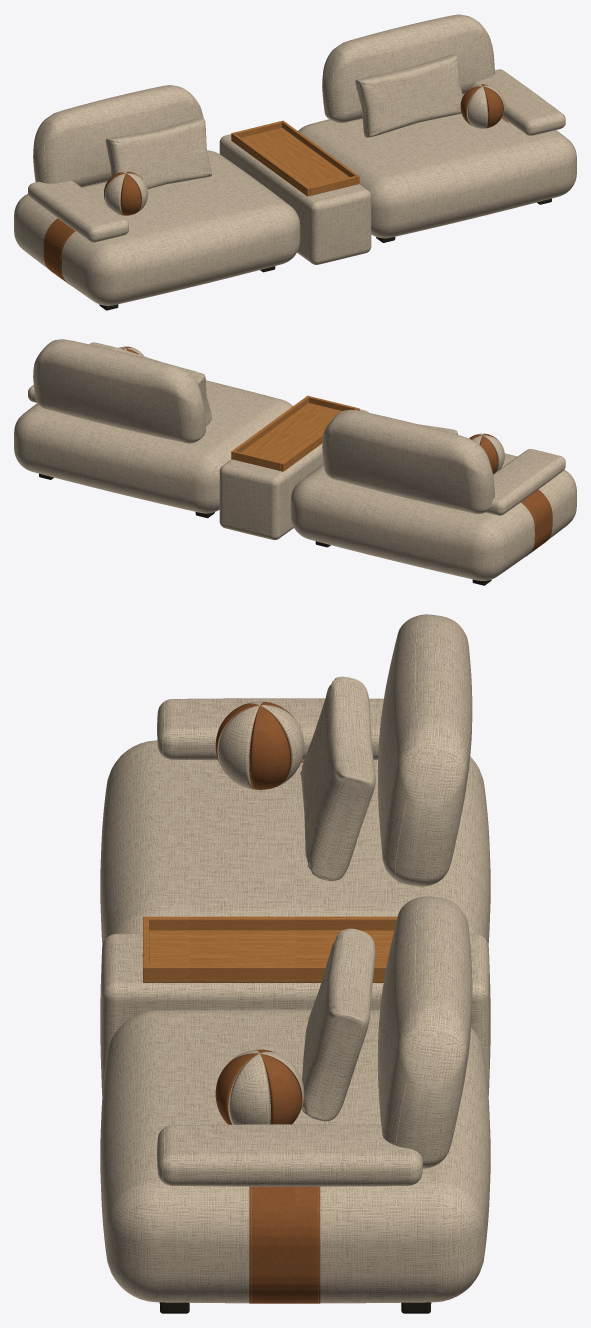
Rendered from straight.glb.
The picture shows the model from 3 angles, top to bottom: view 1: azimuth 30°, elevation 25°; view 2: azimuth 150°, elevation 25°; view 3: azimuth 270°, elevation 25°; orthographic projection. The views are drawn at different scales.
Parts seen in each view (by area): view 1: fabric (×2), pillows, detail (×2), accent; view 2: fabric, detail (×2), pillows, accent; view 3: fabric, pillows, detail (×2), accent.
Part boxes in pixels (x1,y1,x2,y2): fabric (×2): (14, 14, 576, 305); pillows: (105, 54, 504, 215); detail (×2): (43, 117, 507, 283); accent: (104, 84, 503, 215); fabric: (14, 339, 576, 580); detail (×2): (231, 395, 552, 555); pillows: (110, 346, 504, 471); accent: (122, 346, 498, 473); fabric: (100, 614, 490, 1303); pillows: (217, 676, 375, 1124); detail (×2): (142, 760, 397, 1303); accent: (215, 702, 302, 1124).
Size of the model in its own units: 3.2 by 0.8936 by 1.1.
Materials: 6 (3 with a texture image).
